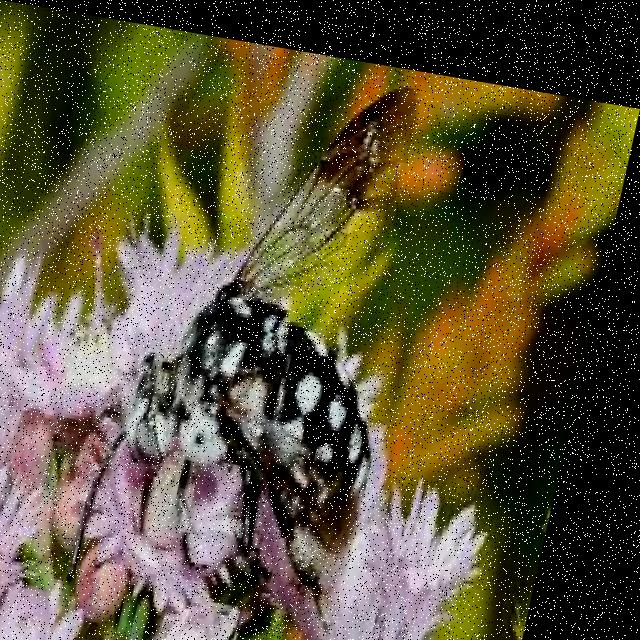Thyreus: (81, 43, 469, 640)
